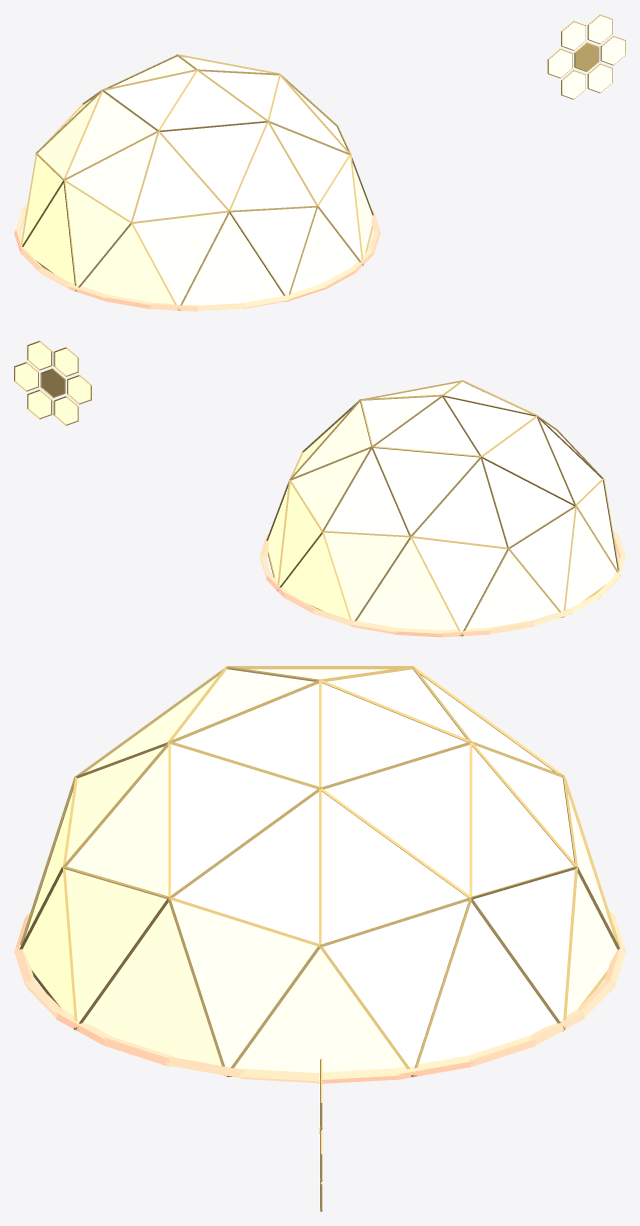
Rendered from FX_AegisShield.fbx.
3 views of the same model, one above another, from view 1: azimuth 30°, elevation 25°; view 2: azimuth 150°, elevation 25°; view 3: azimuth 270°, elevation 25° (orthographic). The views are drawn at different scales.
Parts seen in each view (by area): view 1: AShield_DomeShell, AShield_DomeLattice, AShield_DomeBase, AShield_HitHex0, AShield_HitHex1, AShield_HitHex4, AShield_HitHex5, AShield_HitHex3, AShield_HitHex6, AShield_HitHex2; view 2: AShield_DomeShell, AShield_DomeLattice, AShield_DomeBase, AShield_HitHex4, AShield_HitHex0, AShield_HitHex1, AShield_HitHex2, AShield_HitHex3, AShield_HitHex5, AShield_HitHex6; view 3: AShield_DomeShell, AShield_DomeLattice, AShield_DomeBase.
Part boxes in pixels (x1=…): AShield_DomeShell: x1=22, y1=56, x2=372, y2=305; AShield_DomeLattice: x1=21, y1=54, x2=373, y2=310; AShield_DomeBase: x1=14, y1=204, x2=380, y2=311; AShield_HitHex0: x1=575, y1=43, x2=598, y2=71; AShield_HitHex1: x1=602, y1=37, x2=625, y2=64; AShield_HitHex4: x1=549, y1=50, x2=572, y2=77; AShield_HitHex5: x1=562, y1=71, x2=585, y2=98; AShield_HitHex3: x1=562, y1=22, x2=585, y2=49; AShield_HitHex6: x1=589, y1=64, x2=611, y2=92; AShield_HitHex2: x1=589, y1=15, x2=611, y2=43; AShield_DomeShell: x1=268, y1=382, x2=617, y2=630; AShield_DomeLattice: x1=266, y1=380, x2=620, y2=636; AShield_DomeBase: x1=259, y1=530, x2=625, y2=637; AShield_HitHex4: x1=68, y1=376, x2=90, y2=403; AShield_HitHex0: x1=42, y1=370, x2=64, y2=396; AShield_HitHex1: x1=15, y1=363, x2=37, y2=390; AShield_HitHex2: x1=28, y1=342, x2=50, y2=368; AShield_HitHex3: x1=55, y1=348, x2=77, y2=375; AShield_HitHex5: x1=55, y1=397, x2=77, y2=424; AShield_HitHex6: x1=28, y1=391, x2=50, y2=417; AShield_DomeShell: x1=22, y1=669, x2=617, y2=1072; AShield_DomeLattice: x1=19, y1=666, x2=620, y2=1076; AShield_DomeBase: x1=14, y1=905, x2=625, y2=1083.
Bounding box in the file's own units: 3.77 × 1.02 × 2.04.
